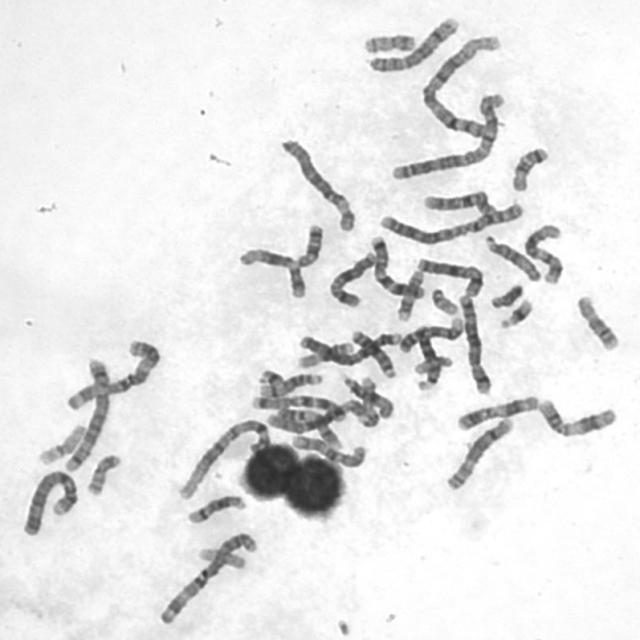A1: (418, 31, 505, 140), (173, 414, 274, 502)
A2: (386, 88, 508, 182), (375, 196, 527, 247)
A3: (155, 528, 260, 628), (60, 334, 163, 412)
B4: (17, 466, 80, 538), (299, 331, 403, 368)
B5: (61, 353, 112, 474), (454, 290, 494, 396)
C10: (288, 432, 368, 469), (418, 187, 497, 215)
C11: (534, 394, 619, 439), (452, 392, 542, 432)
C12: (235, 244, 308, 300), (520, 220, 566, 286)
C6: (276, 134, 358, 233), (265, 398, 381, 435)
C7: (366, 232, 428, 300), (252, 389, 350, 424)
C8: (364, 12, 461, 74), (442, 413, 516, 493)
C9: (276, 406, 346, 452), (395, 313, 467, 354)
D13: (347, 326, 397, 380), (410, 322, 442, 391)
D14: (184, 492, 248, 526), (256, 369, 325, 398)
D15: (480, 232, 543, 283), (336, 371, 396, 420)
E16: (572, 291, 622, 353), (294, 337, 356, 369)
E17: (394, 266, 426, 322), (356, 375, 380, 429)
E18: (507, 143, 551, 193), (292, 220, 326, 269)
F19: (34, 420, 86, 466), (194, 543, 248, 571)
F20: (83, 450, 123, 498), (359, 29, 418, 55)
G21: (495, 295, 535, 330), (256, 366, 286, 390)
G22: (410, 352, 454, 377), (428, 284, 460, 317)
X: (324, 248, 378, 309), (413, 253, 485, 298)
Y: (487, 280, 525, 309)
